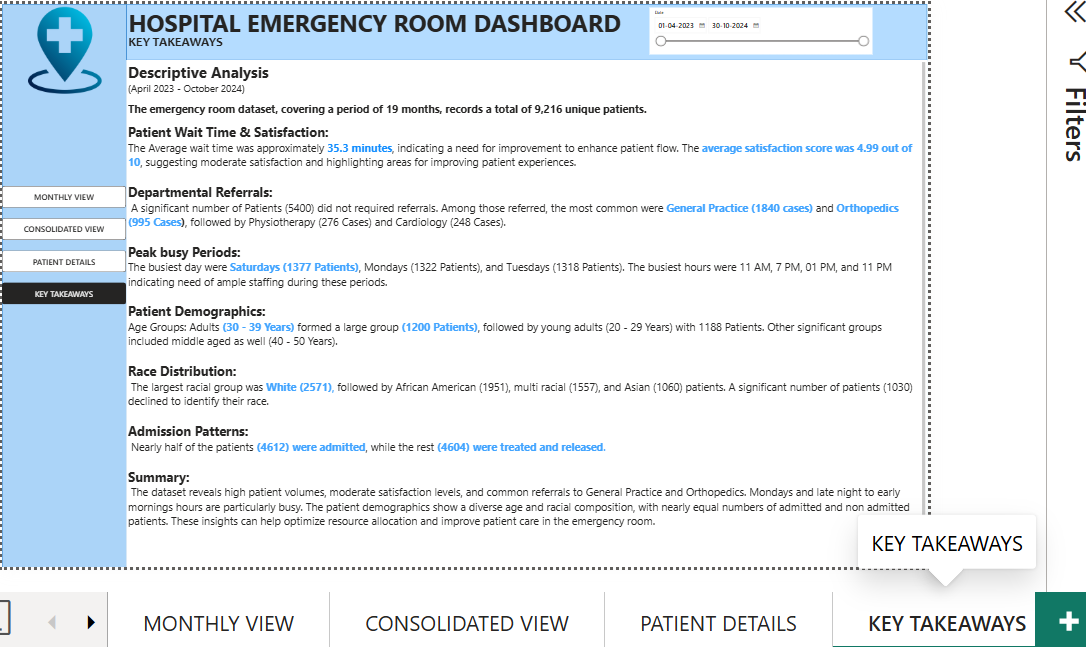

Layout of this report page (visuals, bound fields, positions):
{"tool":"powerbi","page":{"name":"KEY TAKEAWAYS","canvas":[2300,1400],"ordinal":3},"visuals":[{"type":"shape","box":[0,0,310,1400],"z":0},{"type":"shape","box":[310,0,1990,140],"z":1000},{"type":"textbox","box":[310,0,1300,140],"z":2000},{"type":"textbox","box":[310,70,530,70],"z":3000},{"type":"slicer","fields":{"Values":["Date Table.Date"]},"box":[1610,10,553.3,116.7],"z":4000},{"type":"image","box":[46.7,0,216.7,230],"z":5000},{"type":"textbox","box":[310,140,1990,1260],"z":5001},{"type":"pageNavigator","box":[0,450,308.3,295.8],"z":5002}]}

Visuals, with their boxes on the page's 2300x1400 design canvas (x1, y1, x2, y2). These are canvas units, not pixel positions in the 1086x647 screenshot, which may show the page scaled, cropped or inside an application window:
shape: <region>0, 0, 310, 1400</region>
shape: <region>310, 0, 2300, 140</region>
textbox: <region>310, 0, 1610, 140</region>
textbox: <region>310, 70, 840, 140</region>
slicer - Date Table.Date: <region>1610, 10, 2163, 127</region>
image: <region>47, 0, 263, 230</region>
textbox: <region>310, 140, 2300, 1400</region>
pageNavigator: <region>0, 450, 308, 746</region>
